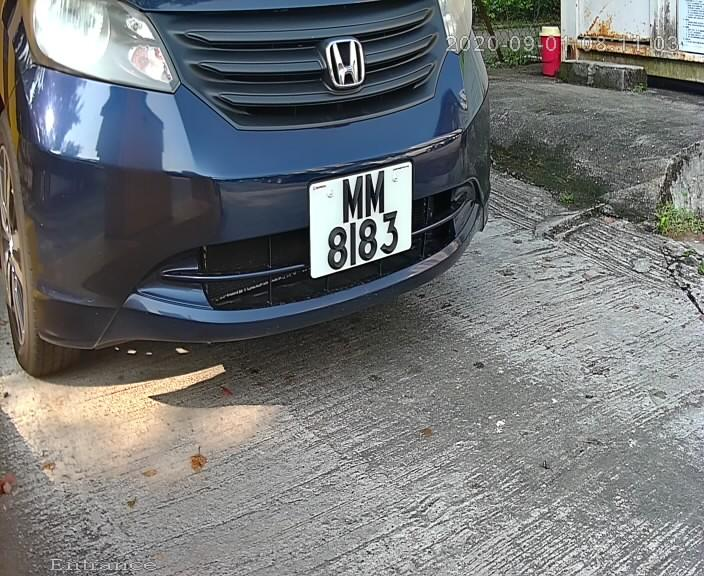License Plate: (302, 155, 425, 286)
